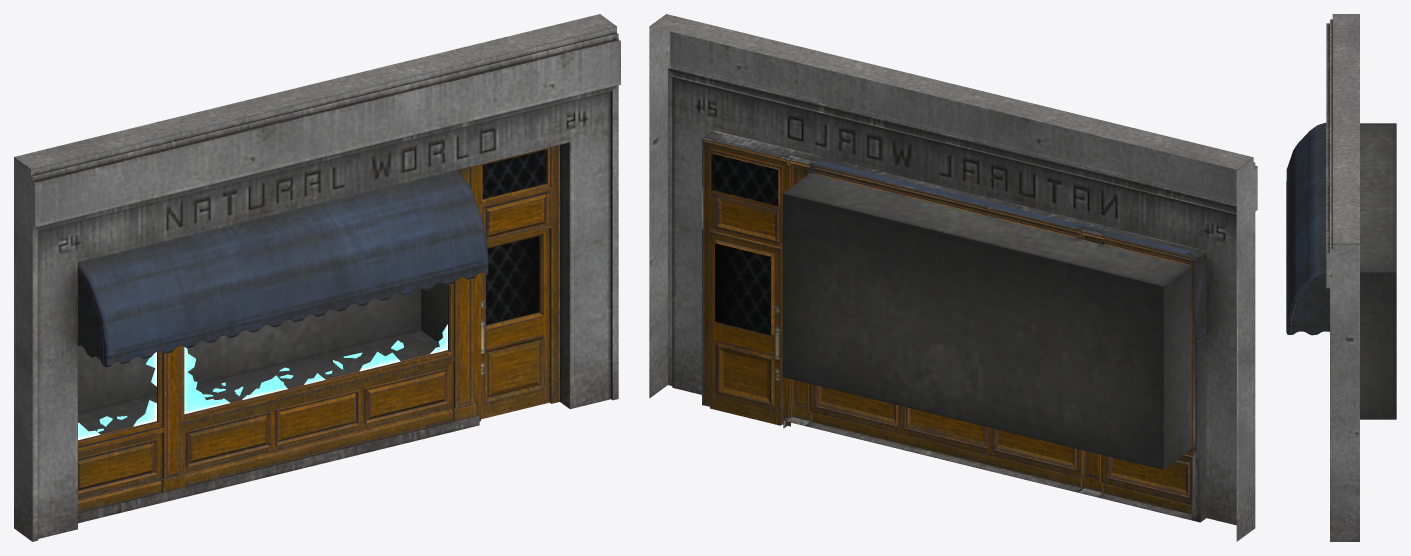
File: sm0028_storewhite01.fbx
The picture shows the model from 3 angles, left to right: view 1: azimuth 30°, elevation 25°; view 2: azimuth 150°, elevation 25°; view 3: azimuth 270°, elevation 25°; orthographic projection. The views are drawn at different scales.
Parts seen in each view (by area): view 1: LOD_1_Group_0_Sub_1__sm0028_storeWhite01_01_mat, LOD_1_Group_0_Sub_2__sm0028_storeWhite01_mat, LOD_1_Group_0_Sub_4__sm0028_storeWhite01_02_mat, LOD_1_Group_0_Sub_3__sm0028_storeWhite01_Glass; view 2: LOD_1_Group_0_Sub_1__sm0028_storeWhite01_01_mat, LOD_1_Group_0_Sub_2__sm0028_storeWhite01_mat, LOD_1_Group_0_Sub_4__sm0028_storeWhite01_02_mat; view 3: LOD_1_Group_0_Sub_1__sm0028_storeWhite01_01_mat.
Part boxes in pixels (x1,y1,x2,y2): LOD_1_Group_0_Sub_1__sm0028_storeWhite01_01_mat: [14, 14, 620, 541]; LOD_1_Group_0_Sub_2__sm0028_storeWhite01_mat: [78, 145, 559, 512]; LOD_1_Group_0_Sub_4__sm0028_storeWhite01_02_mat: [482, 149, 546, 325]; LOD_1_Group_0_Sub_3__sm0028_storeWhite01_Glass: [78, 324, 447, 440]; LOD_1_Group_0_Sub_1__sm0028_storeWhite01_01_mat: [649, 14, 1257, 541]; LOD_1_Group_0_Sub_2__sm0028_storeWhite01_mat: [703, 139, 1194, 514]; LOD_1_Group_0_Sub_4__sm0028_storeWhite01_02_mat: [711, 153, 778, 335]; LOD_1_Group_0_Sub_1__sm0028_storeWhite01_01_mat: [1286, 14, 1396, 541].
Size of the model in its own units: 1000 by 606 by 203.
